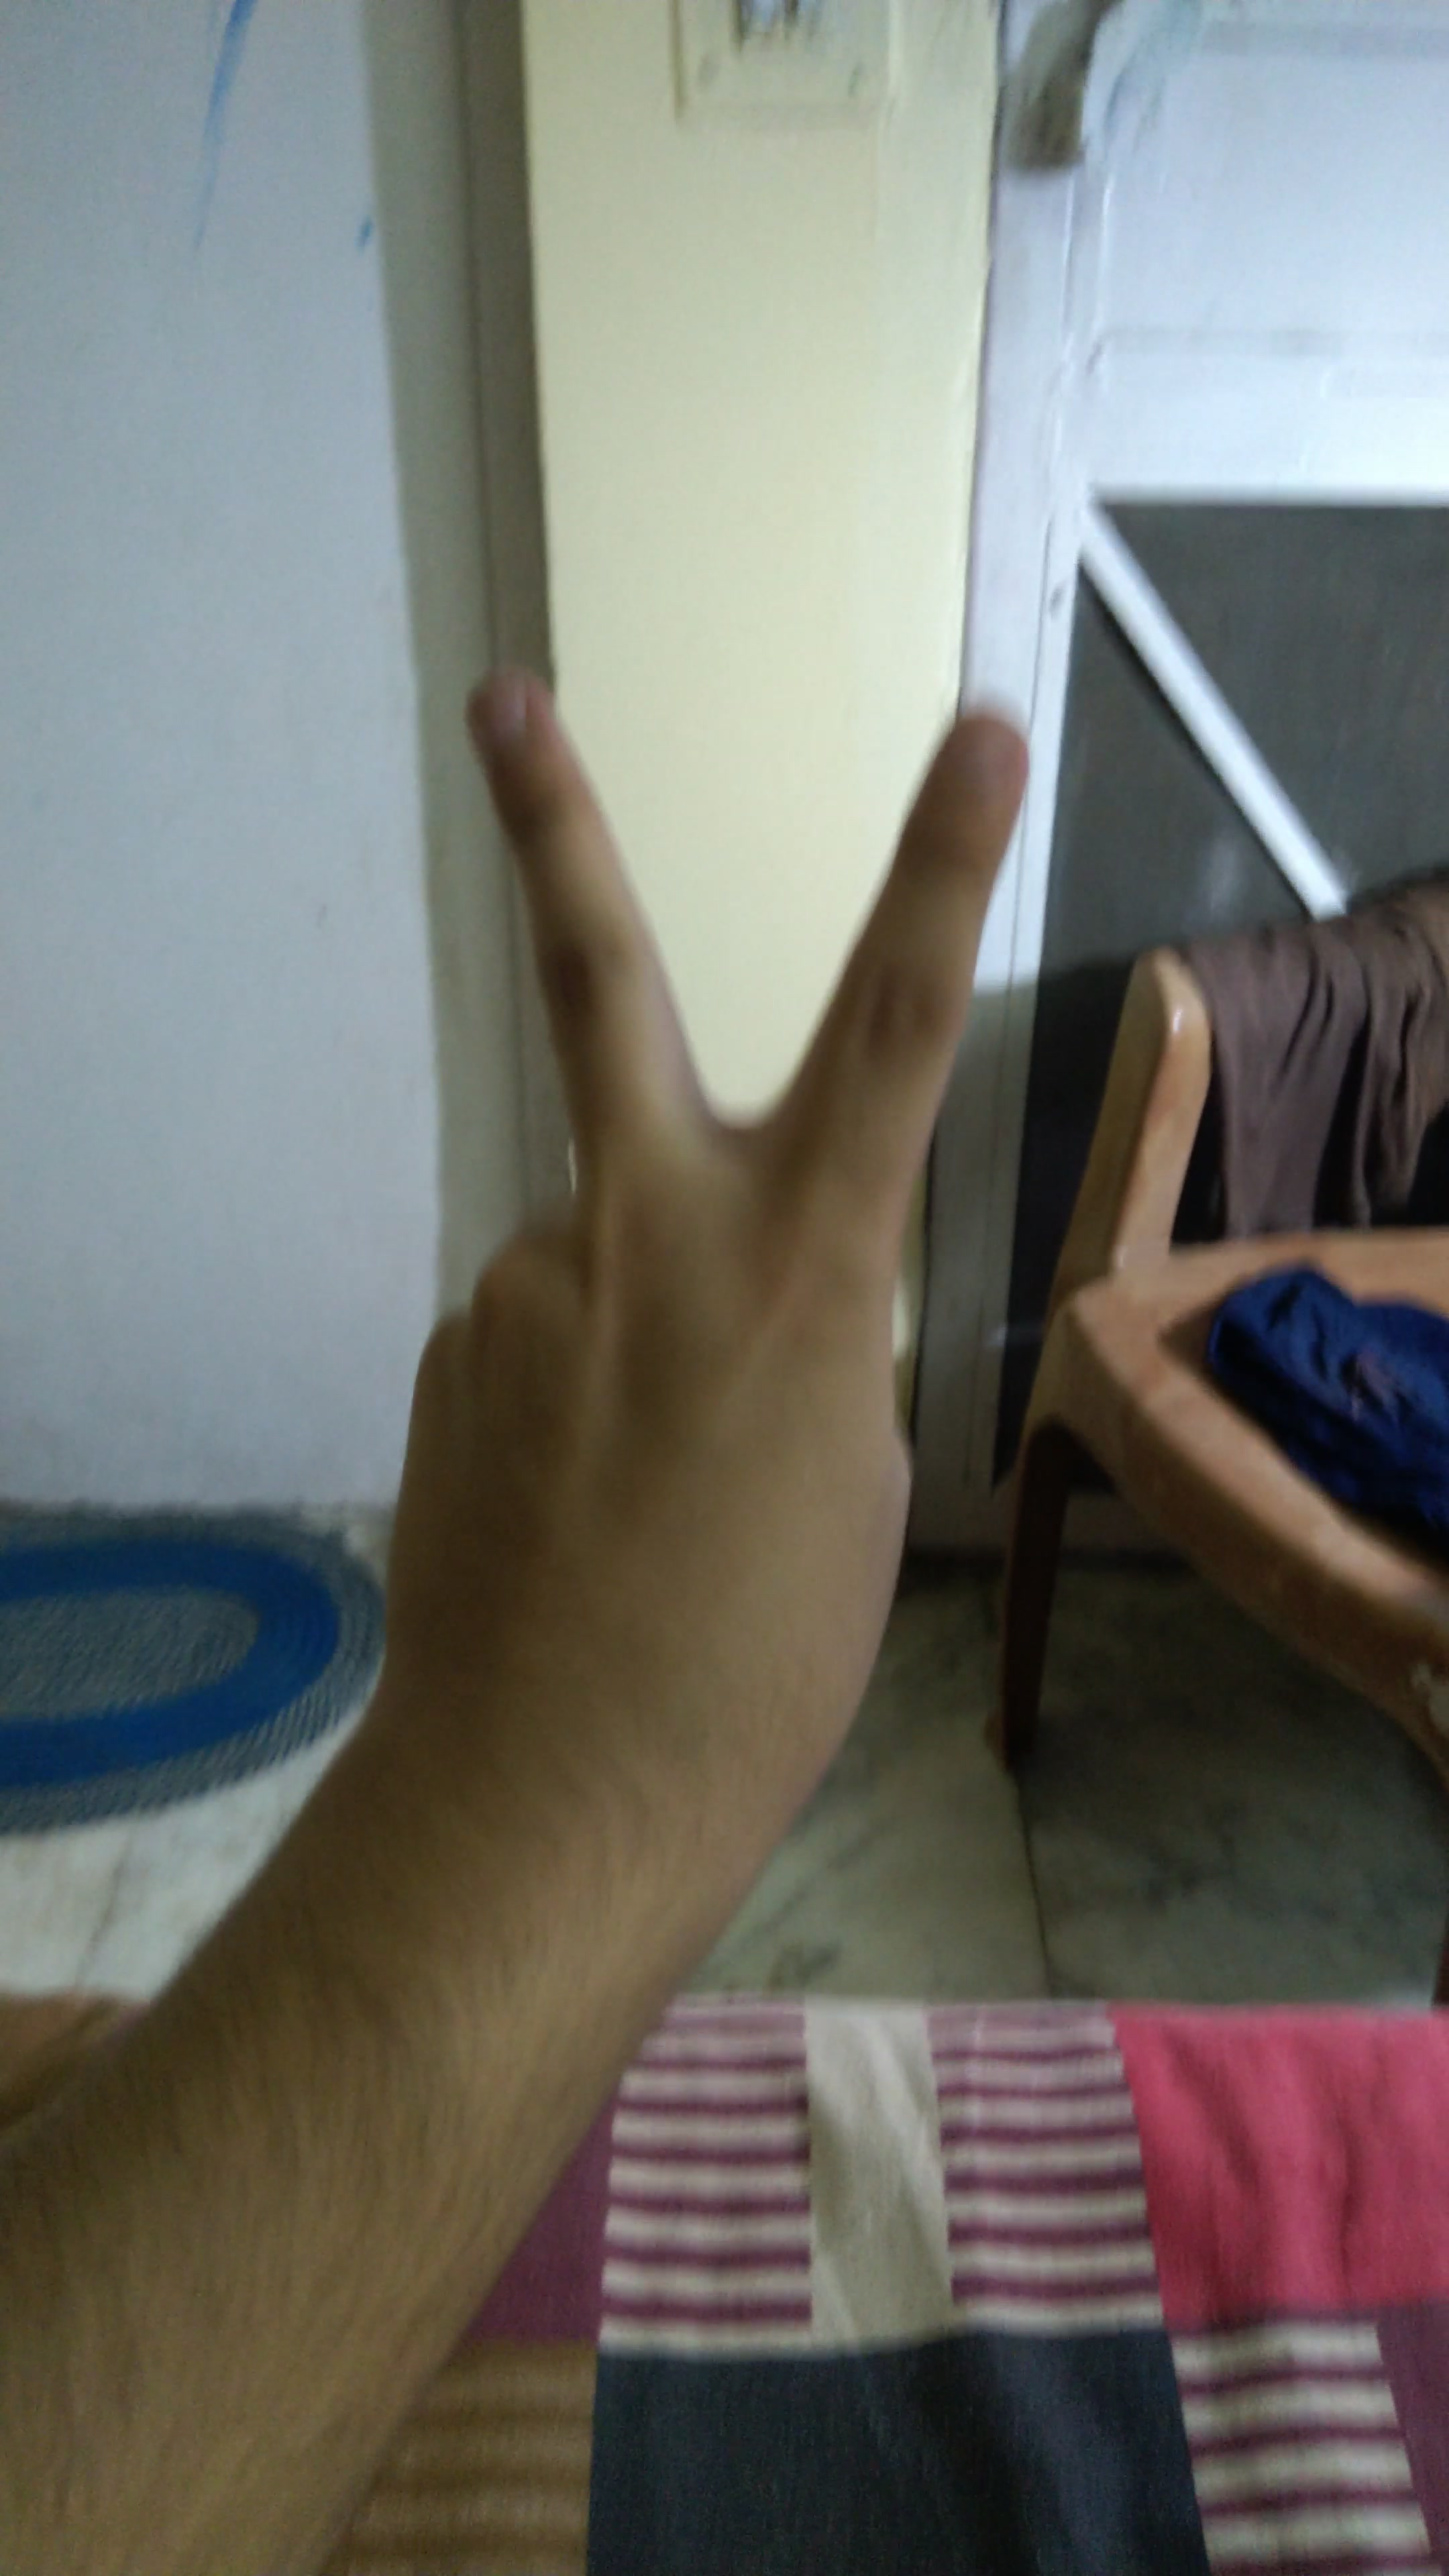hand: (205, 658, 1131, 1937)
